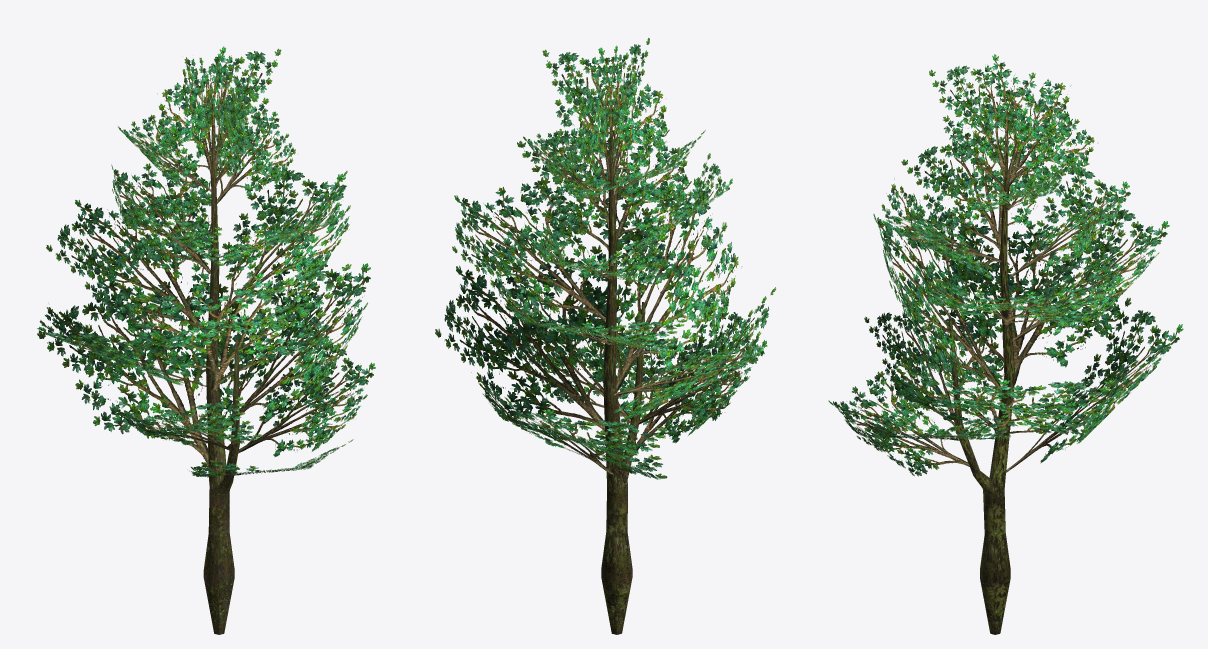
File: decd_endr_maple_sm_l0.fbx
The picture shows the model from 3 angles, left to right: view 1: azimuth 30°, elevation 25°; view 2: azimuth 150°, elevation 25°; view 3: azimuth 270°, elevation 25°; orthographic projection.
Visible parts, largest first — view 1: mesh_node; view 2: mesh_node; view 3: mesh_node.
Part boxes in pixels (box(x1,y1,x2,y2)): mesh_node: box(37, 46, 375, 634); mesh_node: box(435, 38, 775, 634); mesh_node: box(828, 54, 1183, 634).
Size of the model in its own units: 6.26 by 10.55 by 6.1.
